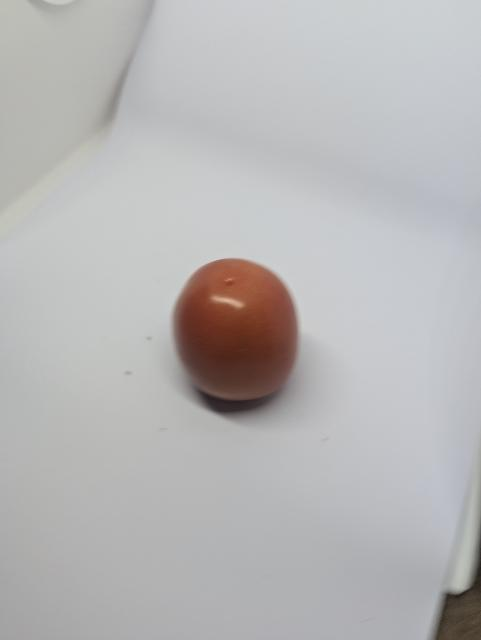red: (171, 256, 303, 406)
